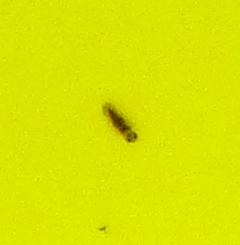Hemiptera: (100, 100, 140, 145)
